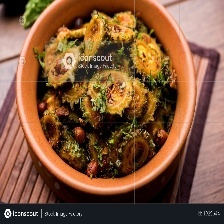sabzi: (29, 6, 178, 184)
